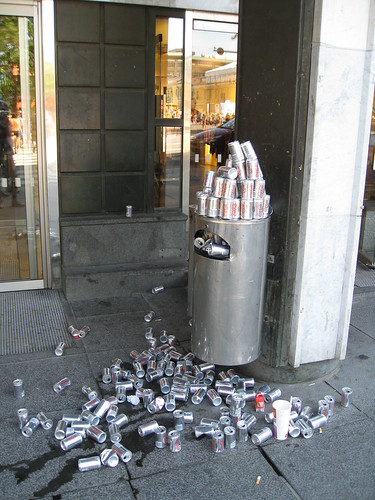trash: (13, 133, 361, 466)
trash can: (171, 200, 278, 370)
